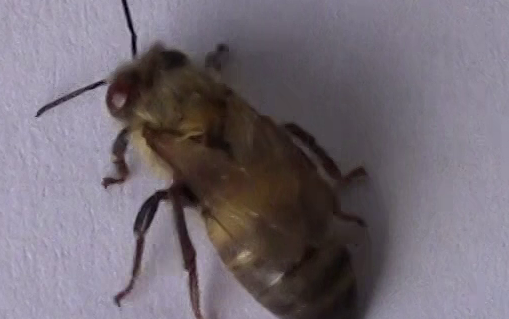Varroa destructor: (106, 71, 144, 116)
